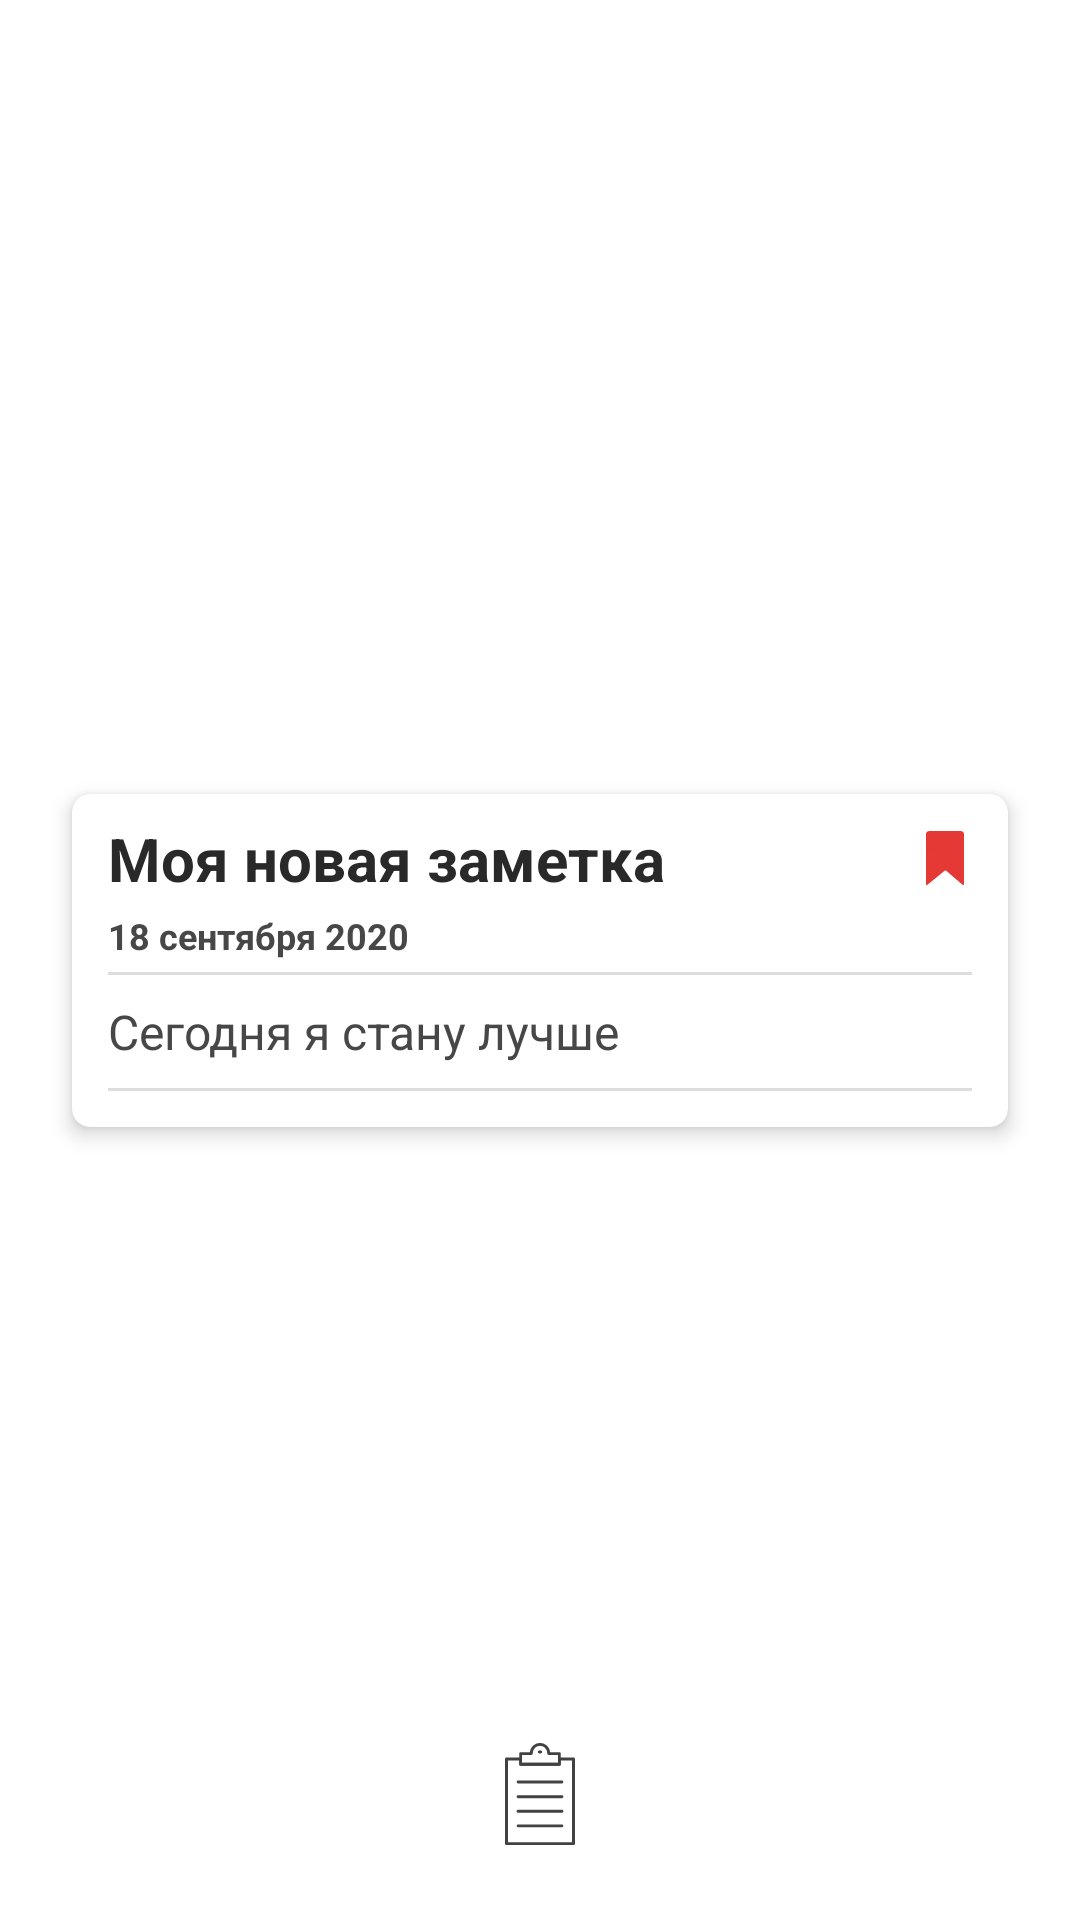

Locate icon controls on the screen. Image size 1080px x 1920px, boxes as (x1, y1, x2, y2).
bookmark note: (926, 831, 964, 885)
clipboard: (505, 1743, 575, 1845)
